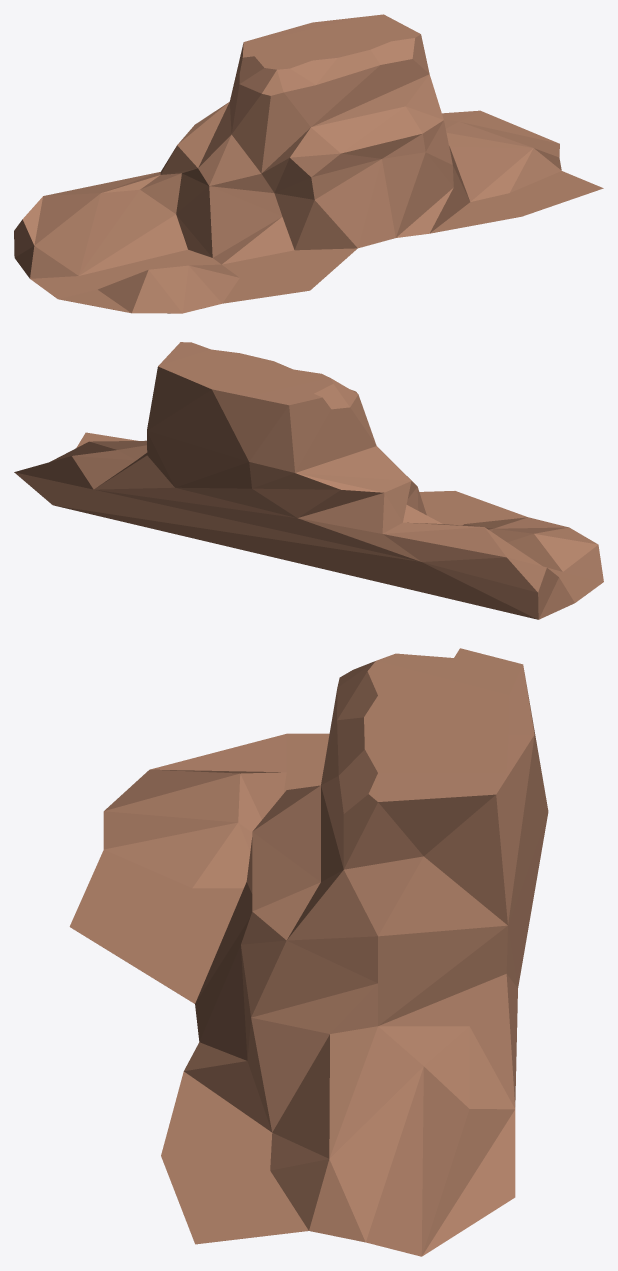
Rendered from 05 Mountain_1.FBX.
3 views of the same model, one above another, from view 1: azimuth 30°, elevation 25°; view 2: azimuth 150°, elevation 25°; view 3: azimuth 270°, elevation 25° (orthographic). The views are drawn at different scales.
Parts seen in each view (by area): view 1: Mountain_1; view 2: Mountain_1; view 3: Mountain_1.
Boxes of the visible parts, x1,y1,x2,y2 form: Mountain_1: (14,14,603,313); Mountain_1: (14,342,603,619); Mountain_1: (69,648,548,1256).
Size of the model in its own units: 6227 by 1715 by 2410.
